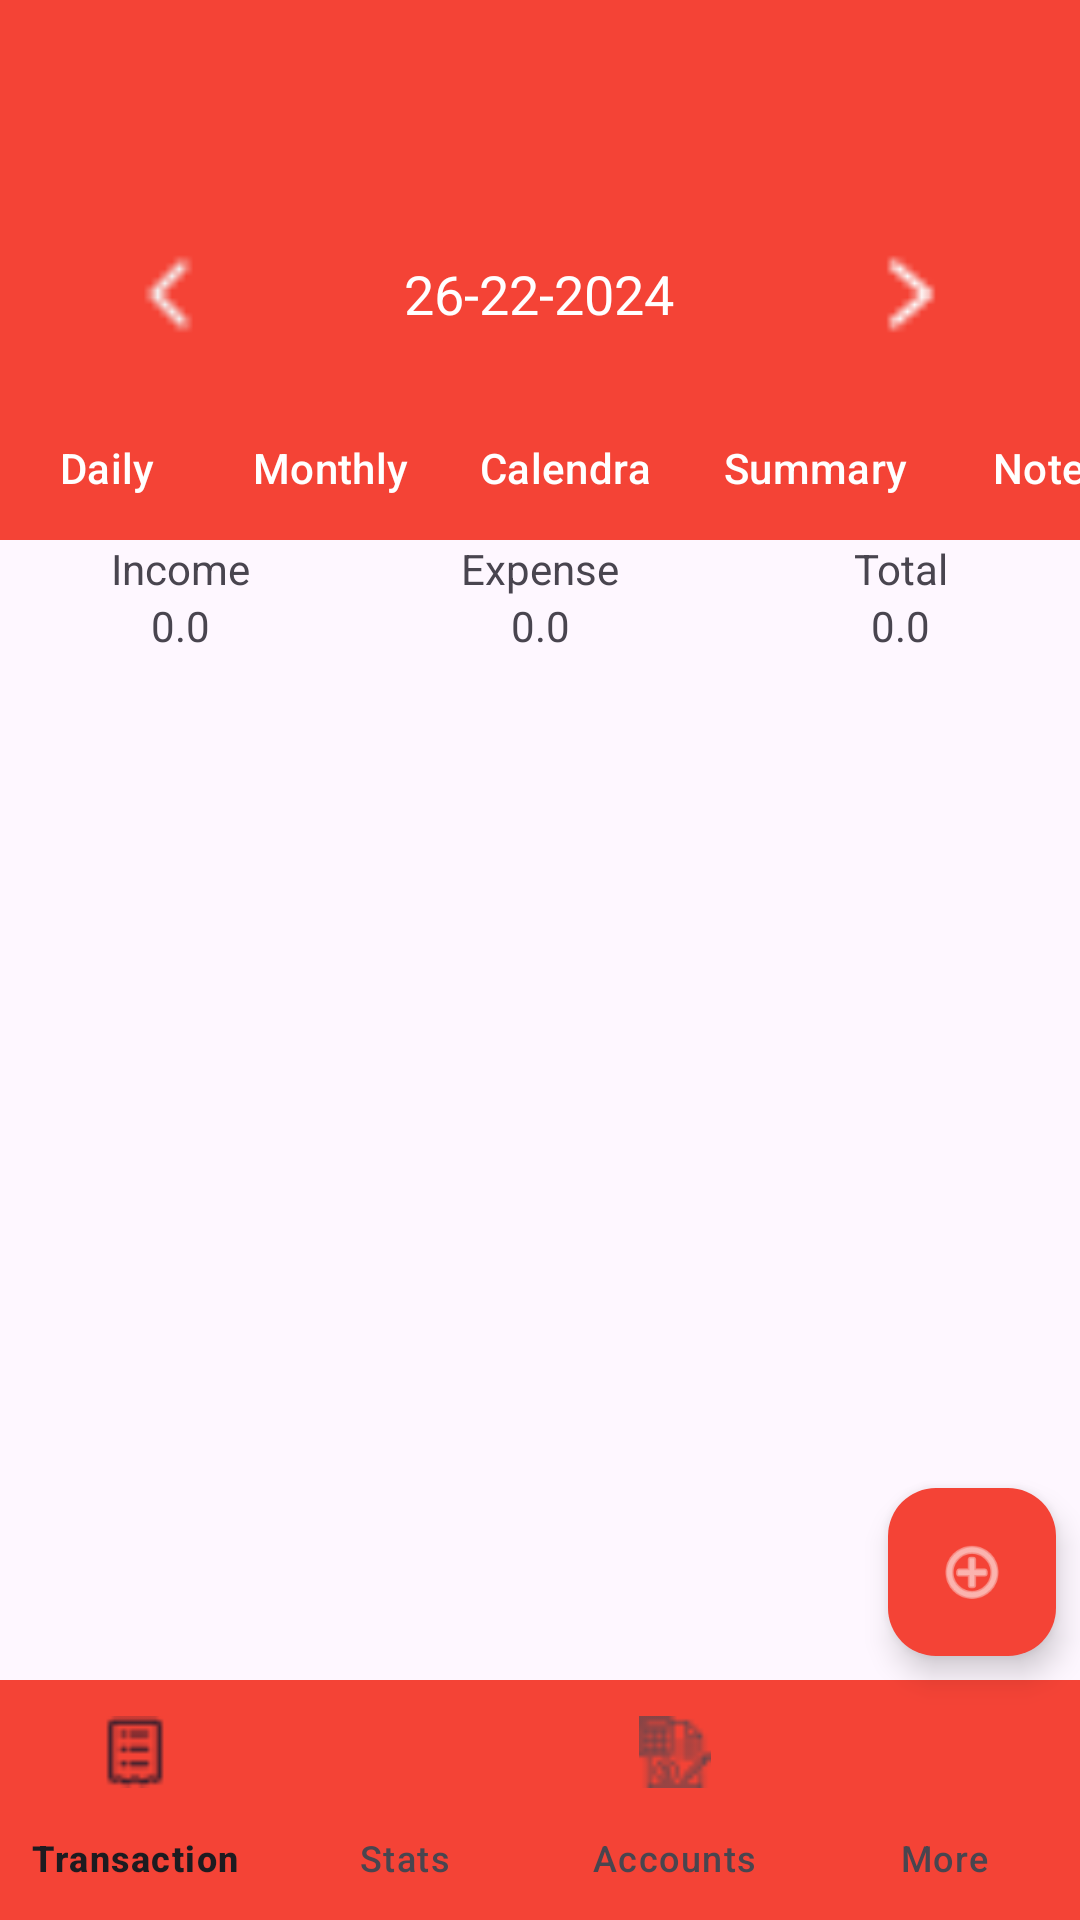

Point at icon controls on the screen. Image size 1080w x 1920h, points as point (x, y).
add: point (972, 1572)
left: point (168, 294)
next: point (911, 293)
